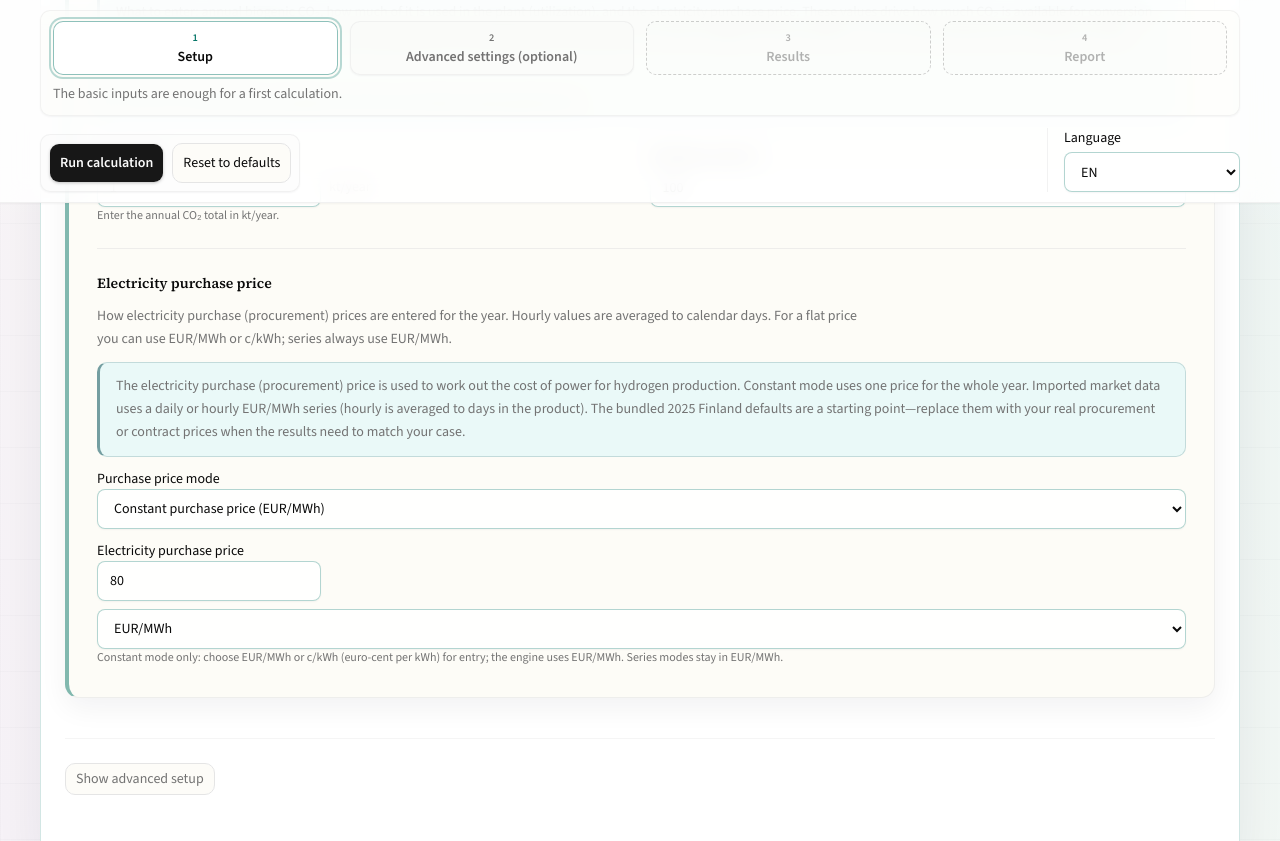
Test: WP21 – commercial default price verify hints (UI) › hides methane hint after the value is changed away from the factory default
(page scrolled)
Expected: the button "Run calculation" is shown, left=49, top=143, right=164, bottom=183
Click the button with test id "toggle-advanced-setup" at {"x": 140, "y": 779}, box left=65, top=763, right=215, bottom=795
(page scrolled)
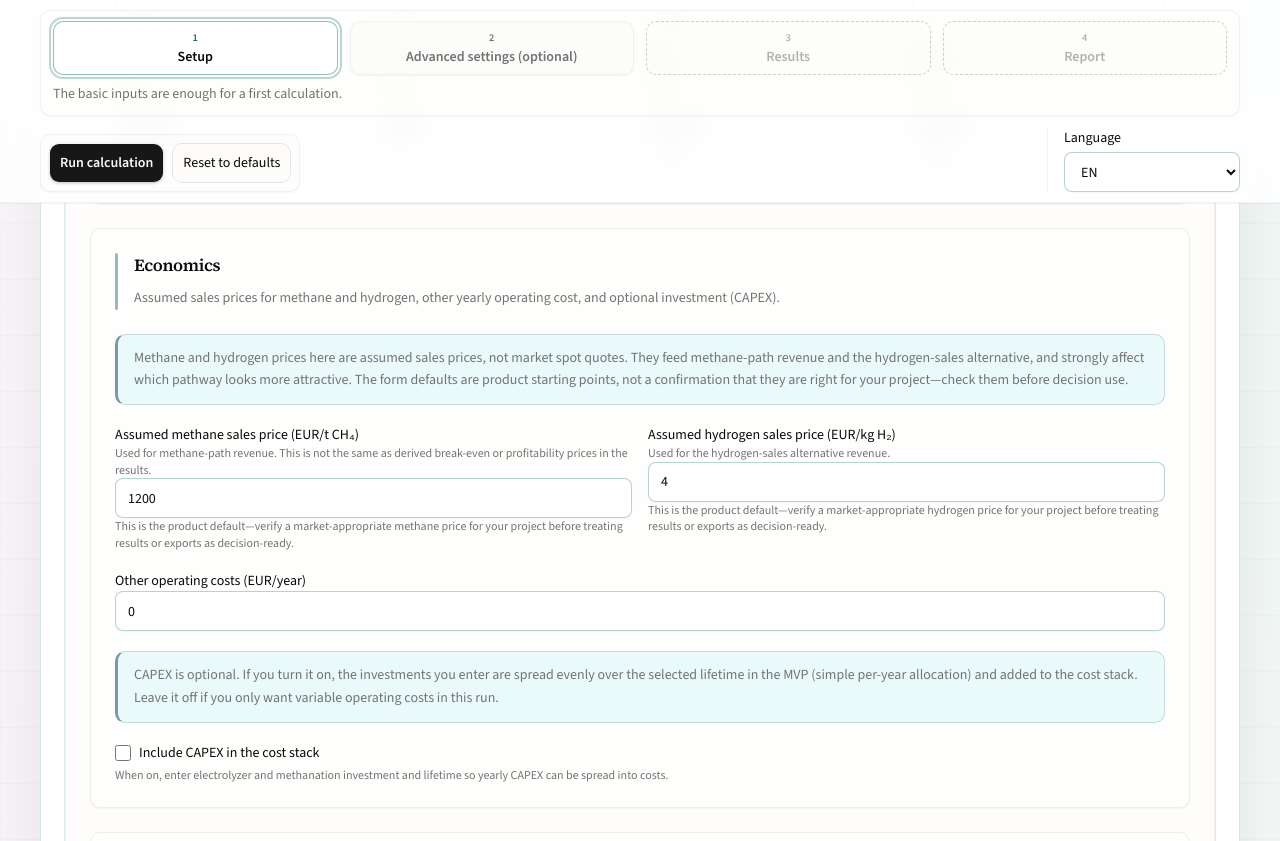
Replace the text in the field labelled "Assumed methane sales price (EUR/t CH₄)" with "1195" at {"x": 374, "y": 498}, box left=115, top=478, right=632, bottom=518
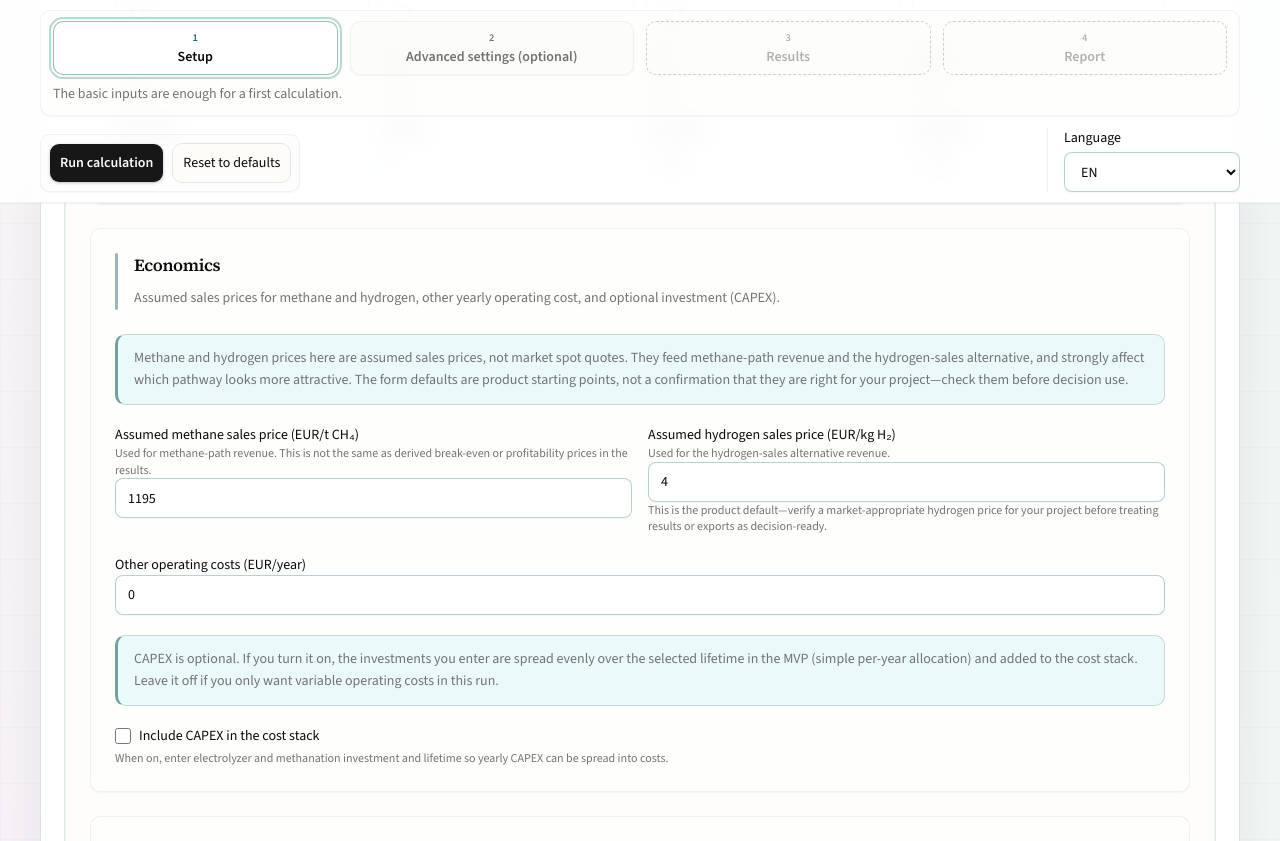
Now the text with test id "economics-methane-default-verify-hint" is gone
